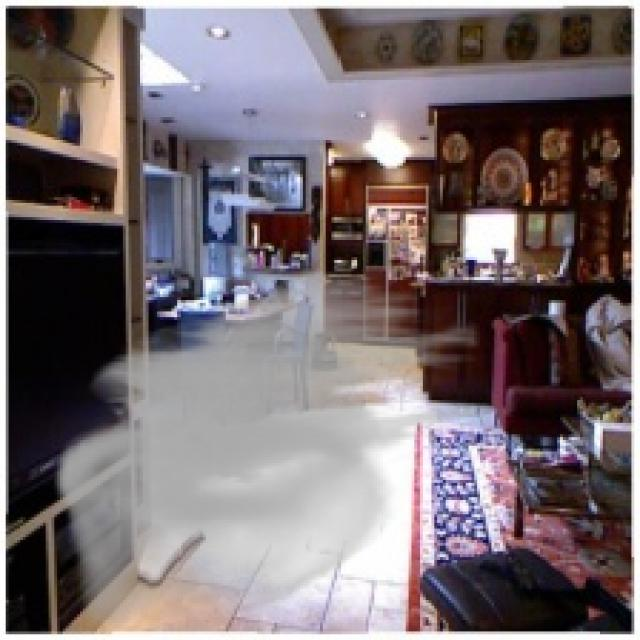smoke: (54, 266, 480, 628)
